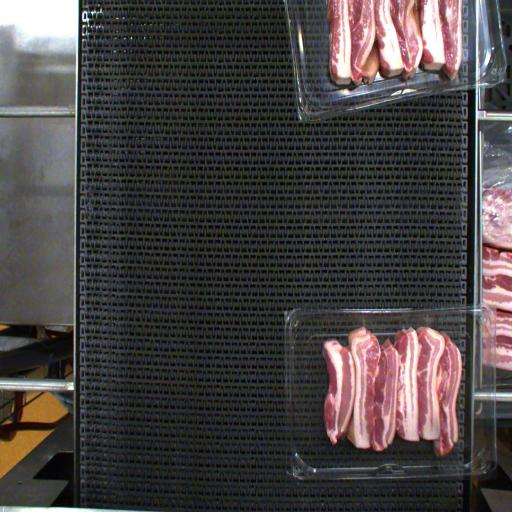packaging-error: (357, 309, 371, 329)
